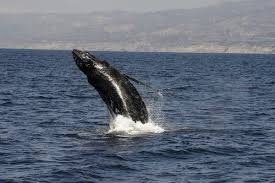humpback: (72, 49, 150, 129)
